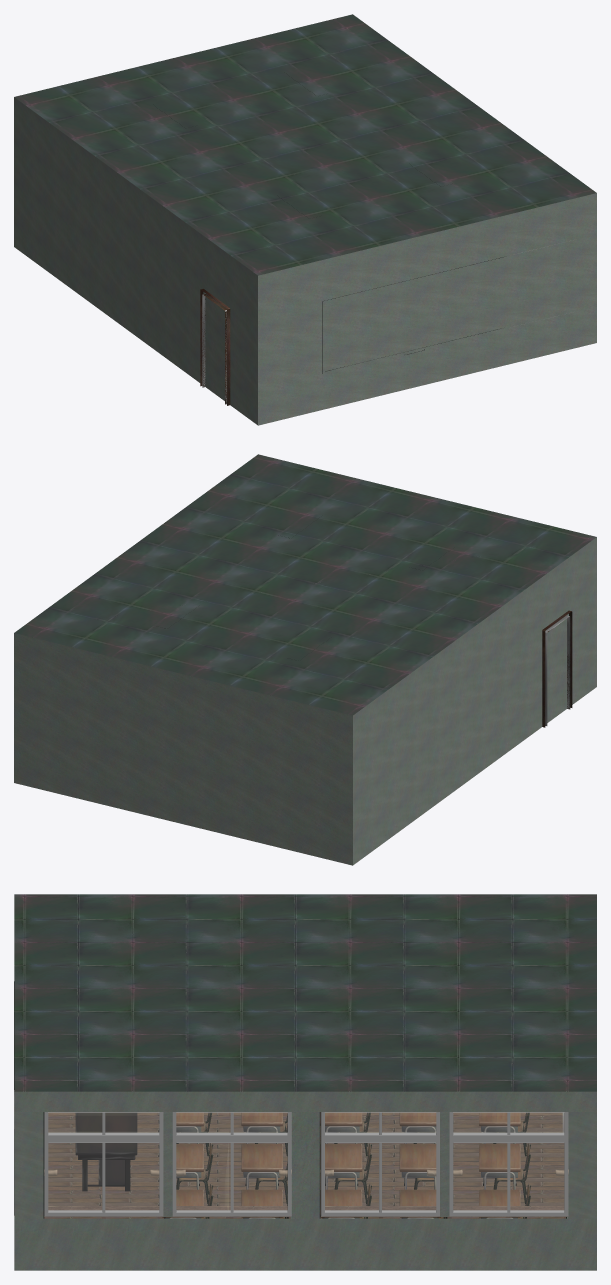
File: classroom.glb
The picture shows the model from 3 angles, top to bottom: view 1: azimuth 30°, elevation 25°; view 2: azimuth 150°, elevation 25°; view 3: azimuth 270°, elevation 25°; orthographic projection. The views are drawn at different scales.
Visible parts, largest first — view 1: wall, ceilling, Door.001|Door_L_door.blend|Dupli|_door_0; view 2: wall, ceilling, Door.001|Door_L_door.blend|Dupli|_door_0; view 3: ceilling, wall, ground, Window.003|Glass_L_Window.blend|Dupli|2_glass_0, Window.002|Glass_L_Window.blend|Dupli|2_glass_0, Cube, Window.003|Window_L_Window.blend|Dupli|1_PlasticGrey_0, Window.002|Window_L_Window.blend|Dupli|1_PlasticGrey_0, wall.002, teacherDesk.001|teacherDesk_L_teacherDesk.blend|Dupli|_teach, wall.001, Window.003|WindowWoodPlate_L_Window.blend|Dupli|3_WindowWood (+3 smaller).
Boxes of the visible parts, x1,y1,x2,y2 form: wall: [14, 97, 596, 425]; ceilling: [14, 14, 596, 275]; Door.001|Door_L_door.blend|Dupli|_door_0: [200, 288, 230, 405]; wall: [14, 537, 596, 865]; ceilling: [14, 454, 596, 715]; Door.001|Door_L_door.blend|Dupli|_door_0: [542, 610, 572, 727]; ceilling: [14, 894, 596, 1091]; wall: [14, 1091, 596, 1270]; ground: [44, 1112, 565, 1218]; Window.003|Glass_L_Window.blend|Dupli|2_glass_0: [48, 1113, 287, 1210]; Window.002|Glass_L_Window.blend|Dupli|2_glass_0: [325, 1113, 563, 1210]; Cube: [162, 1112, 520, 1218]; Window.003|Window_L_Window.blend|Dupli|1_PlasticGrey_0: [44, 1112, 291, 1216]; Window.002|Window_L_Window.blend|Dupli|1_PlasticGrey_0: [321, 1112, 568, 1216]; wall.002: [14, 1112, 596, 1218]; teacherDesk.001|teacherDesk_L_teacherDesk.blend|Dupli|_teach: [75, 1112, 137, 1191]; wall.001: [290, 1112, 320, 1218]; Window.003|WindowWoodPlate_L_Window.blend|Dupli|3_WindowWood: [44, 1206, 291, 1216].
Bounding box in the file's own units: 811 × 342 × 1004.
23 materials, 18 textured.
